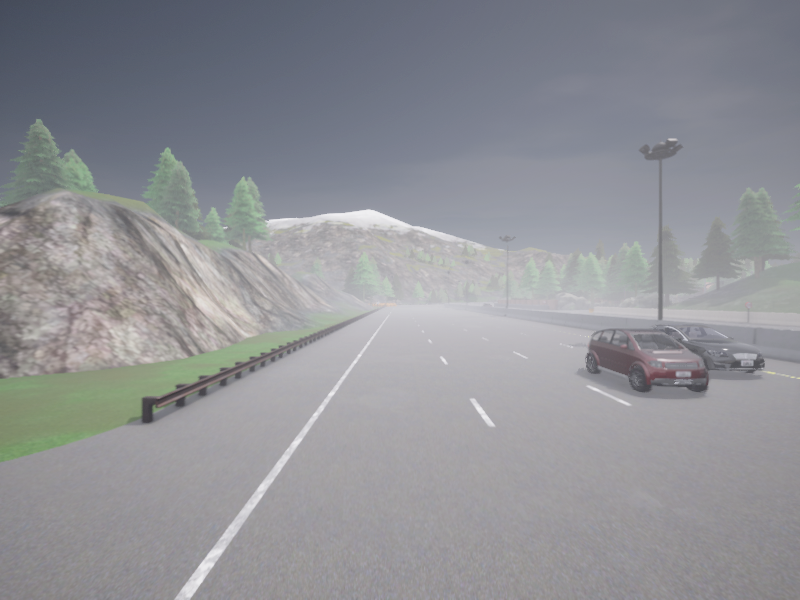vehicle: (586, 328, 708, 391), (646, 323, 764, 372), (482, 303, 490, 306)
